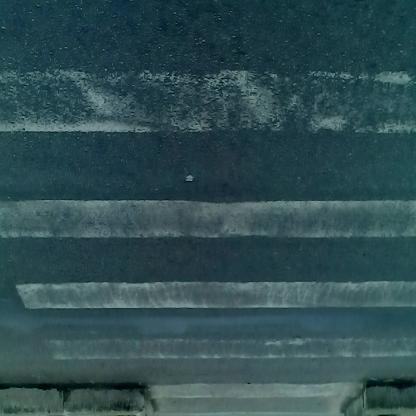crosswalk: (2, 43, 416, 385)
